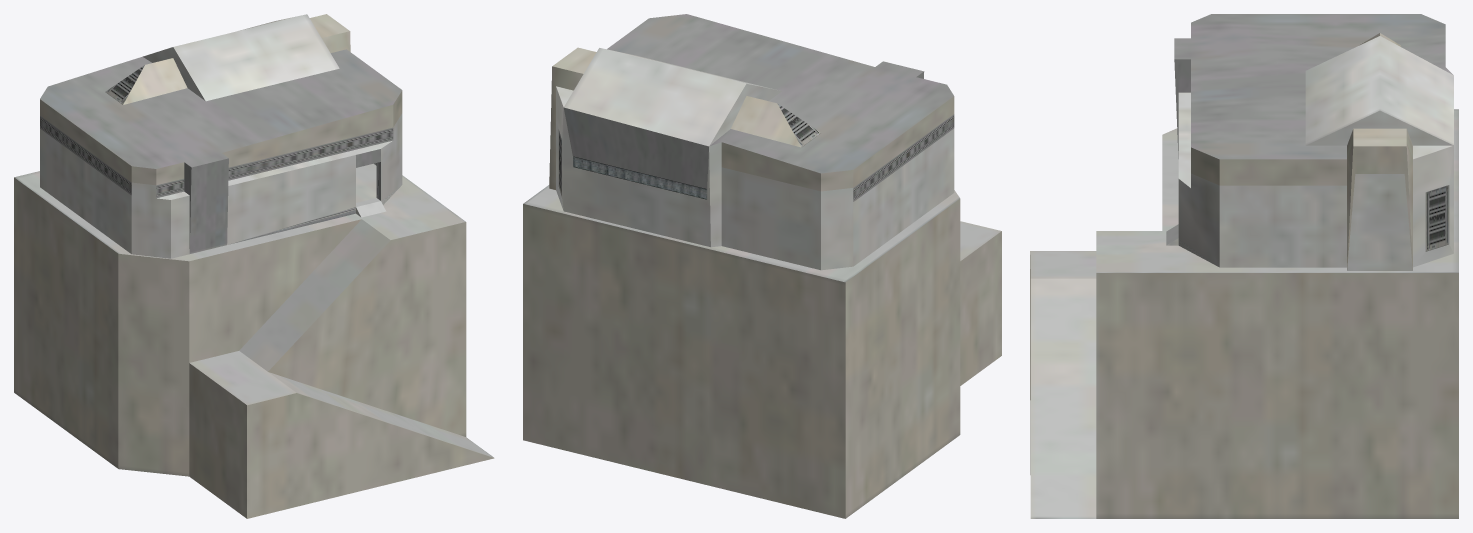
The model's file is ply_corl_house_m_s02_fp1_r0_exterior_mesh_l2.fbx.
3 renders of one model, left to right at view 1: azimuth 30°, elevation 25°; view 2: azimuth 150°, elevation 25°; view 3: azimuth 270°, elevation 25°, orthographic. The views are drawn at different scales.
Visible parts, largest first — view 1: mesh_node; view 2: mesh_node; view 3: mesh_node.
Part boxes in pixels (x1,y1,x2,y2): mesh_node: [14, 14, 494, 518]; mesh_node: [523, 14, 1001, 518]; mesh_node: [1030, 14, 1458, 518].
Size of the model in its own units: 23.53 by 26.1 by 26.07.
1 material, 1 textured.
